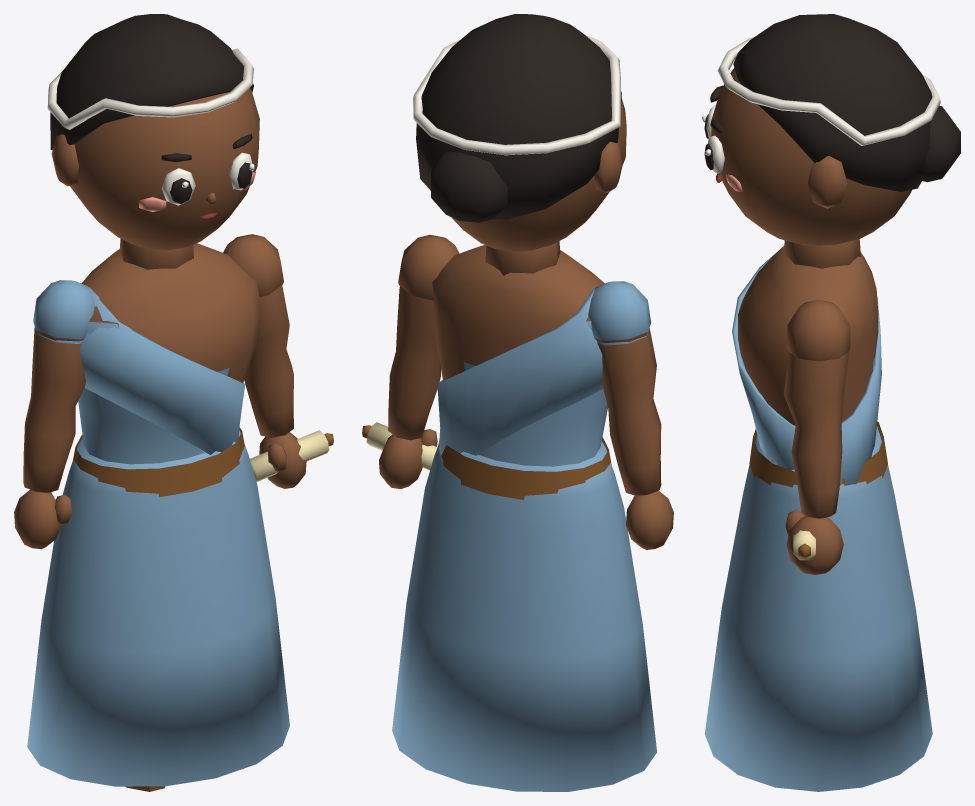
File: philosophin.glb
3 renders of one model, left to right at view 1: azimuth 30°, elevation 25°; view 2: azimuth 150°, elevation 25°; view 3: azimuth 270°, elevation 25°, orthographic.
Visible parts, largest first — view 1: huefte, rumpf, kopf, haare, armL, armR, itemR, augeL, augeR; view 2: huefte, rumpf, haare, armL, armR, kopf, itemR; view 3: huefte, haare, rumpf, kopf, armR, itemR, augeR.
Boxes of the visible parts, x1,y1,x2,y2 form: huefte: (27, 430, 289, 786); rumpf: (73, 243, 261, 496); kopf: (51, 88, 259, 269); haare: (47, 14, 253, 149); armL: (14, 280, 94, 549); armR: (223, 234, 306, 488); itemR: (250, 430, 333, 481); augeL: (161, 168, 195, 205); augeR: (229, 152, 254, 190); huefte: (392, 441, 656, 791); rumpf: (432, 245, 611, 499); haare: (413, 14, 621, 222); armL: (588, 281, 673, 549); armR: (379, 234, 459, 488); kopf: (451, 98, 626, 275); itemR: (362, 422, 437, 470); huefte: (704, 426, 932, 791); haare: (717, 14, 960, 191); rumpf: (732, 246, 887, 487); kopf: (711, 68, 911, 268); armR: (783, 299, 850, 575); itemR: (793, 515, 815, 560); augeR: (704, 135, 724, 173).
Bounding box in the file's own units: 1.02 × 2.29 × 0.7376.
